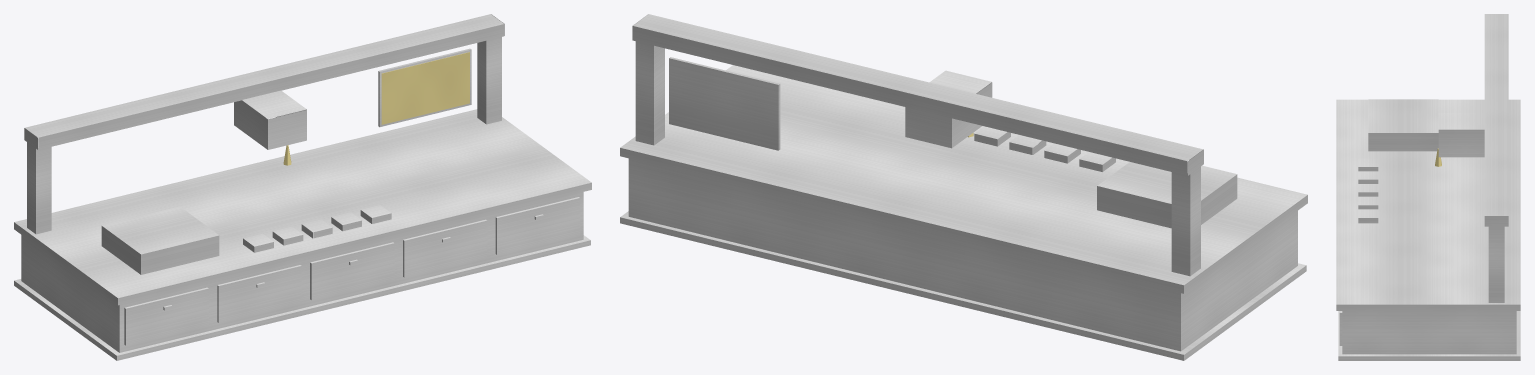
Rendered from fabrication_bench.obj.
The picture shows the model from 3 angles, left to right: view 1: azimuth 30°, elevation 25°; view 2: azimuth 150°, elevation 25°; view 3: azimuth 270°, elevation 25°; orthographic projection. The views are drawn at different scales.
Visible parts, largest first — view 1: fabrication_bench; view 2: fabrication_bench; view 3: fabrication_bench.
Part boxes in pixels (<box>): fabrication_bench: <box>14,14,591,360</box>; fabrication_bench: <box>620,14,1307,360</box>; fabrication_bench: <box>1336,14,1520,360</box>.
Size of the model in its own units: 4.84 by 1.58 by 1.84.
